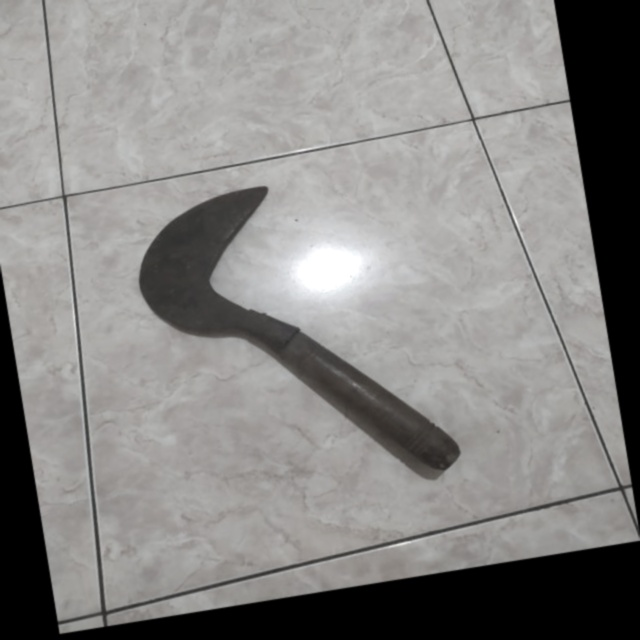Sharp-Object: (114, 148, 469, 515)
